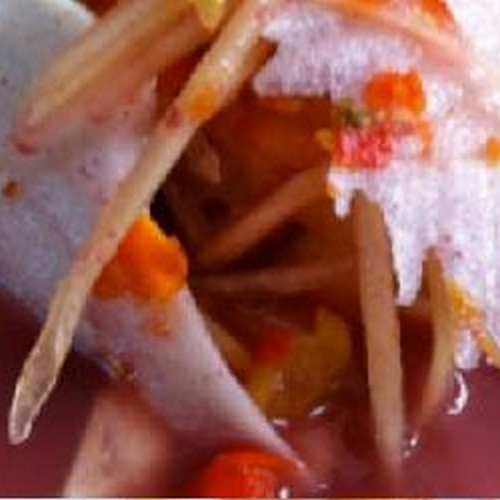rujak buleleng: (29, 2, 500, 500)
